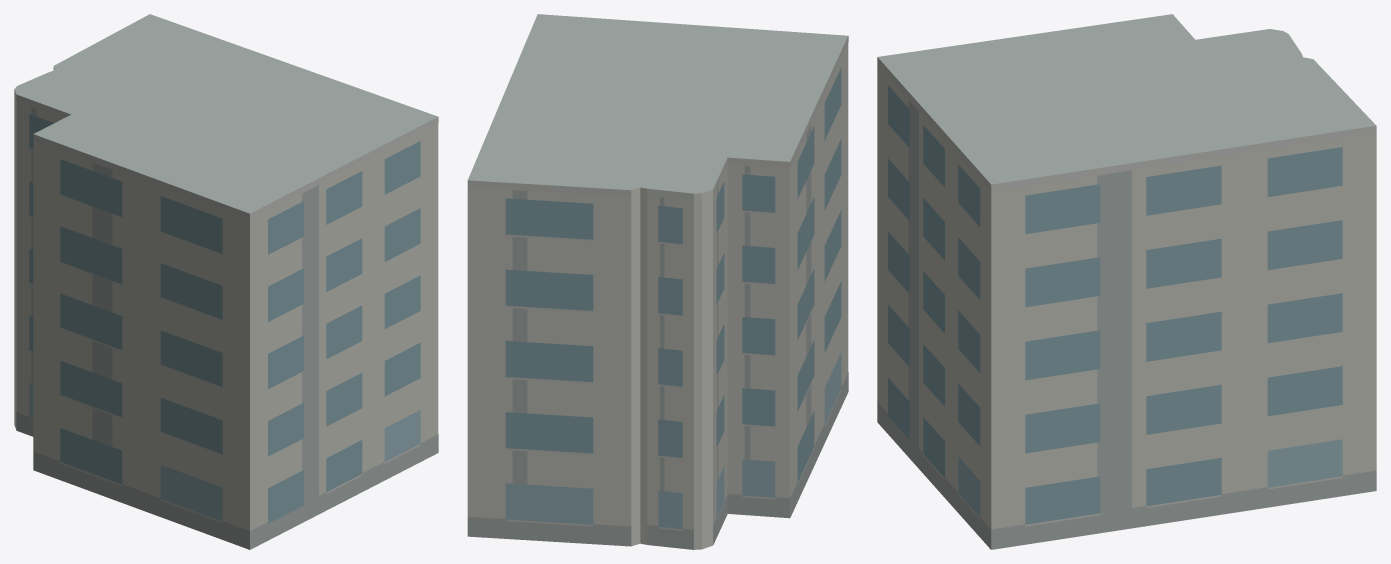
Rendered from survey-upis-32849063.glb.
3 renders of one model, left to right at view 1: azimuth 30°, elevation 25°; view 2: azimuth 150°, elevation 25°; view 3: azimuth 270°, elevation 25°, orthographic. The views are drawn at different scales.
Visible parts, largest first — view 1: survey-upis-32849063.tmp; view 2: survey-upis-32849063.tmp; view 3: survey-upis-32849063.tmp.
Part boxes in pixels (x1,y1,x2,y2): survey-upis-32849063.tmp: [14, 14, 438, 549]; survey-upis-32849063.tmp: [467, 14, 848, 549]; survey-upis-32849063.tmp: [877, 14, 1376, 549].
Bounding box in the file's own units: 12.23 × 12.2 × 15.12.
